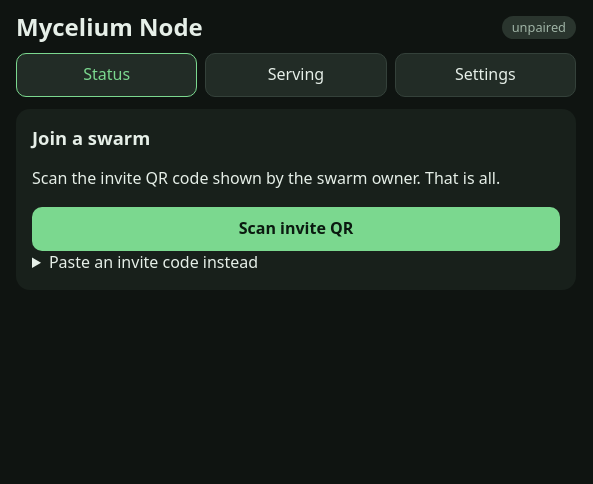
it: node app › shows the core refusal code instead of pretending success
Step 1. Click the button "Scan invite QR" → [296, 229], box [32, 207, 560, 251]
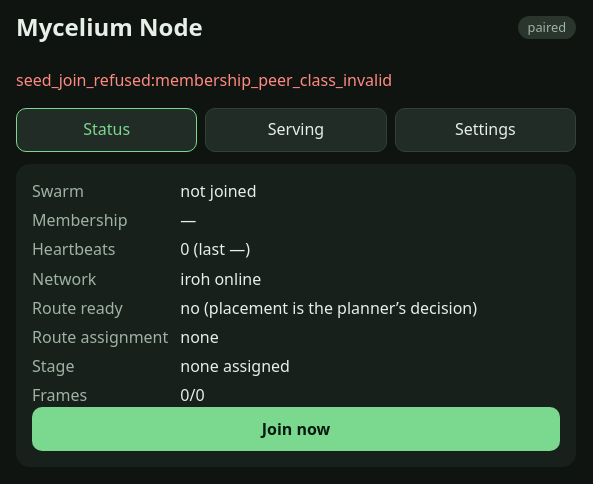
Check: the message shows "membership_peer_class_invalid", box [16, 69, 392, 91]
Check: the text with test id "phase" reads "paired", box [528, 18, 566, 36]
